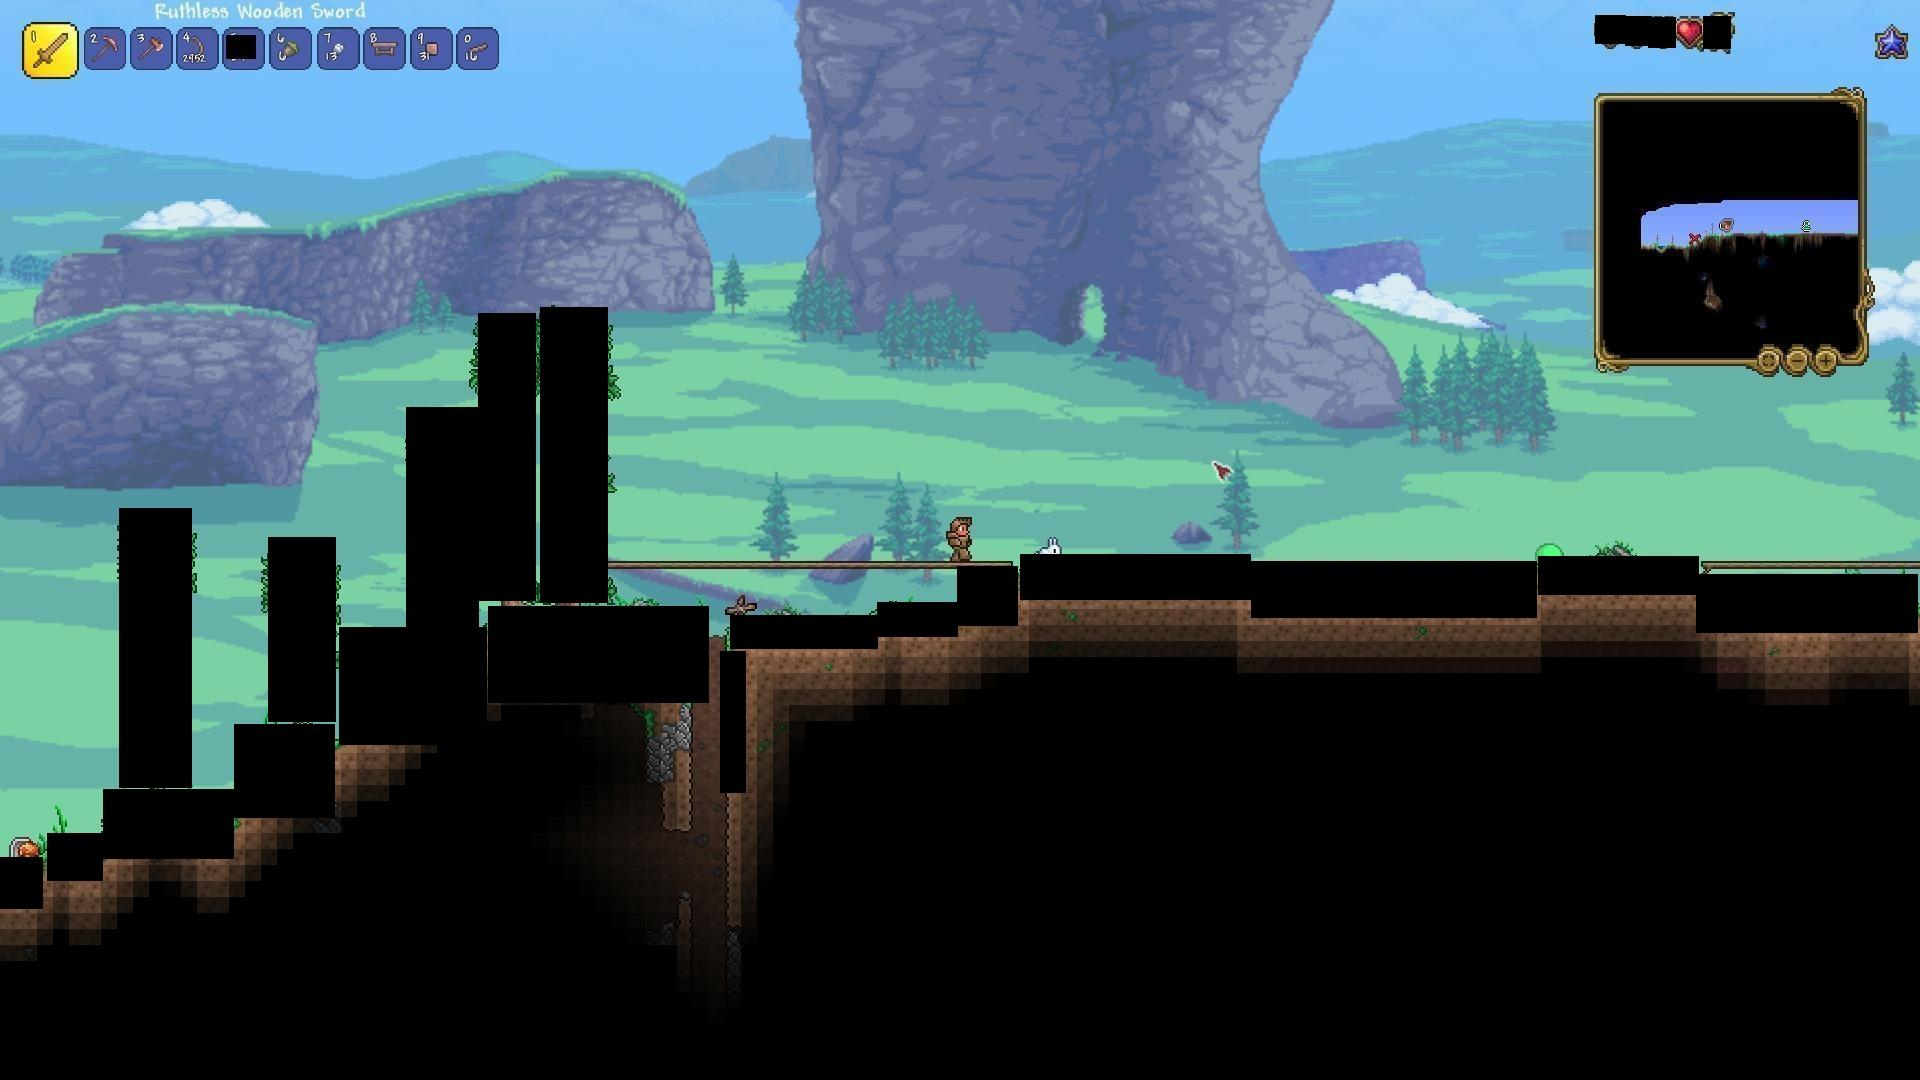heart: (1675, 16, 1704, 47)
slime: (1535, 539, 1571, 568)
workbench: (367, 38, 404, 63)
